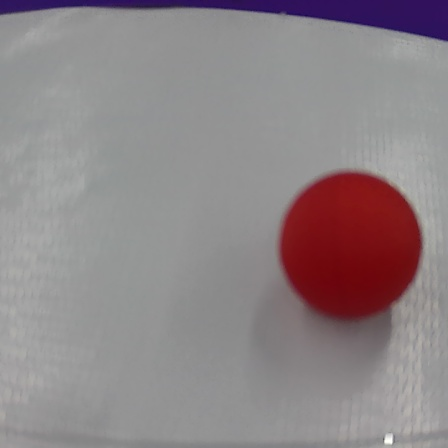red: (273, 160, 426, 328)
